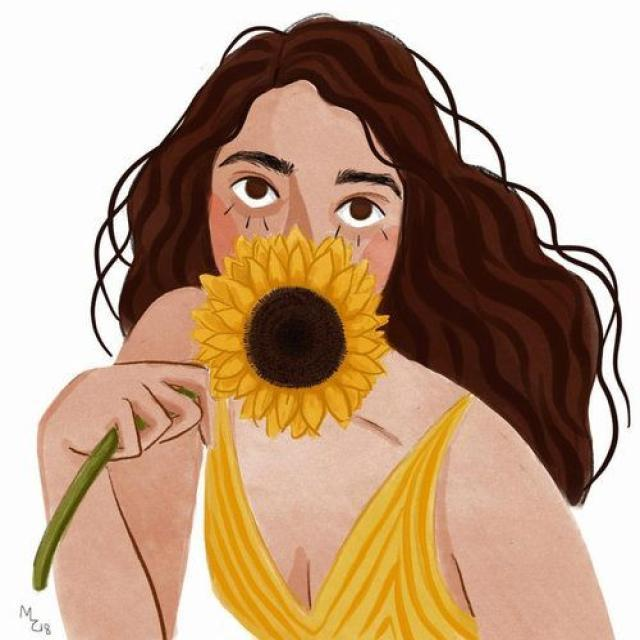sunflower: (190, 224, 390, 438)
